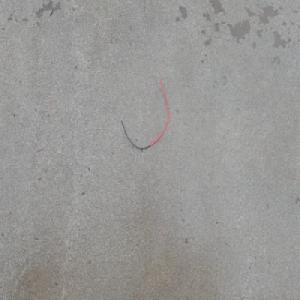Wire: (115, 70, 169, 151)
